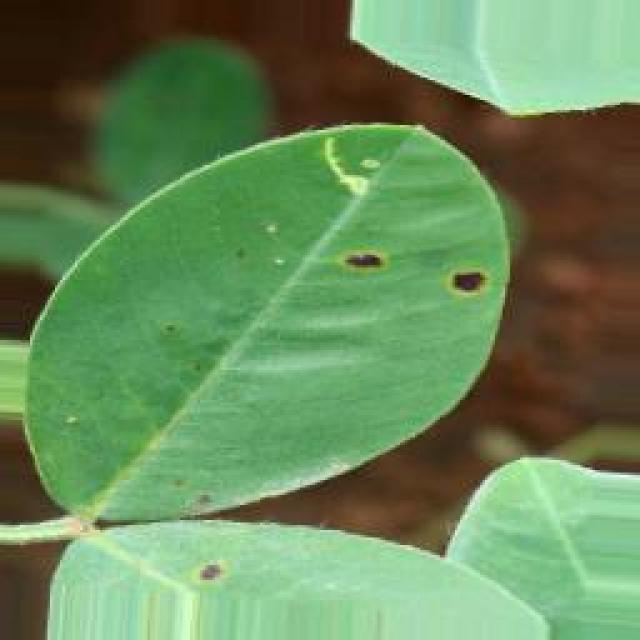Sigatoka: (317, 213, 419, 303), (408, 237, 518, 319), (148, 529, 258, 595), (160, 486, 262, 548)
